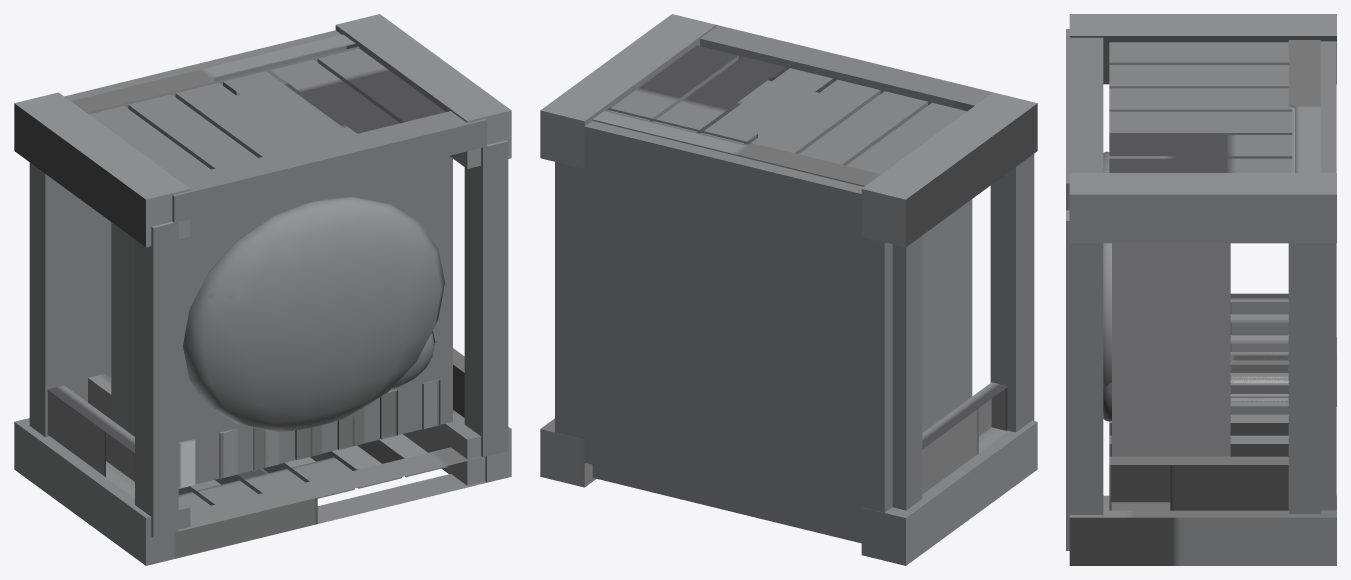
3 renders of one model, left to right at view 1: azimuth 30°, elevation 25°; view 2: azimuth 150°, elevation 25°; view 3: azimuth 270°, elevation 25°, orthographic.
Bounding box in the file's own units: 0.865 × 0.828 × 0.5475.
